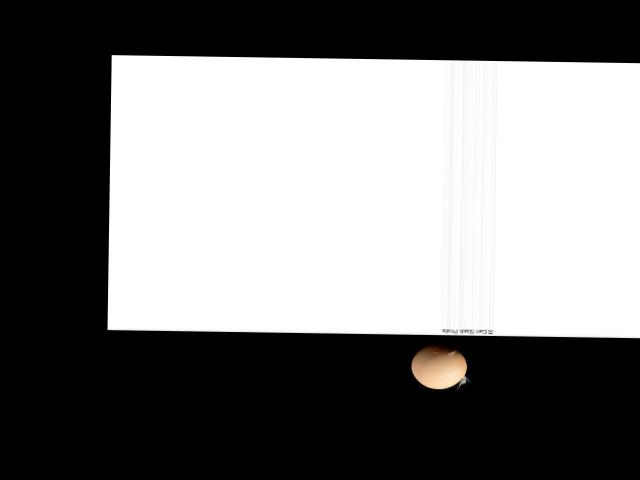egg: (410, 343, 466, 388)
